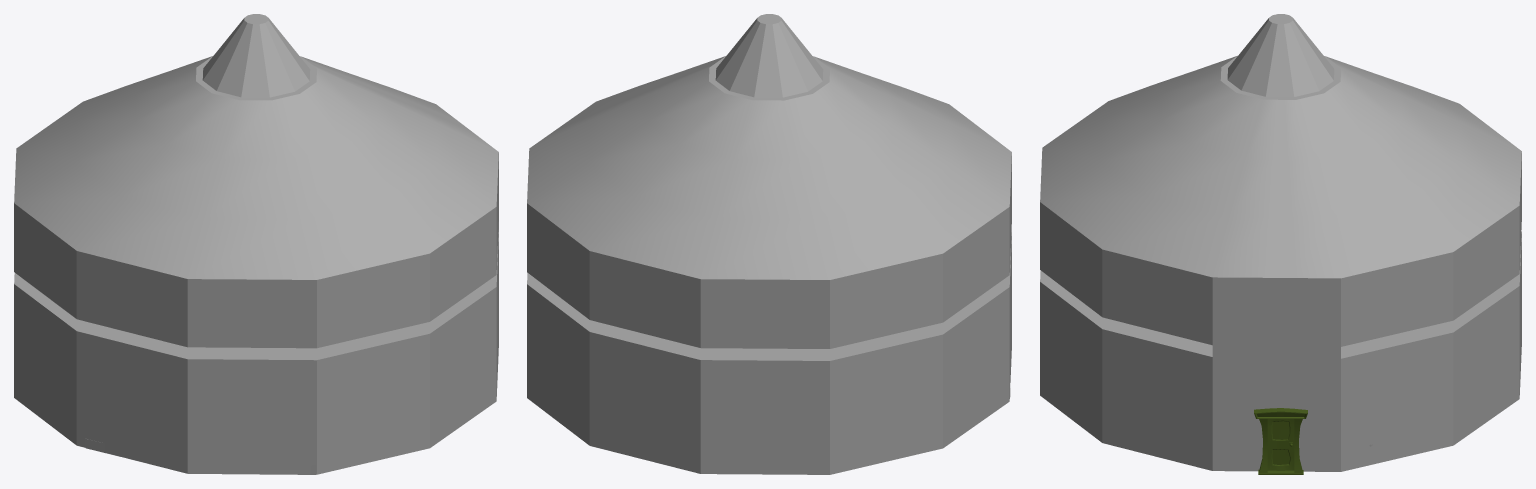
Rendered from GreenHouse Export2.fbx.
The picture shows the model from 3 angles, left to right: view 1: azimuth 30°, elevation 25°; view 2: azimuth 150°, elevation 25°; view 3: azimuth 270°, elevation 25°; orthographic projection.
Visible parts, largest first — view 1: pCylinder4; view 2: pCylinder4; view 3: pCylinder4, Door2, polySurface4.
Part boxes in pixels (x1,y1,x2,y2): pCylinder4: [14, 14, 498, 474]; pCylinder4: [527, 14, 1011, 474]; pCylinder4: [1040, 14, 1521, 471]; Door2: [1267, 419, 1294, 470]; polySurface4: [1254, 408, 1307, 474].
Size of the model in its own units: 54.34 by 43.39 by 53.49.
